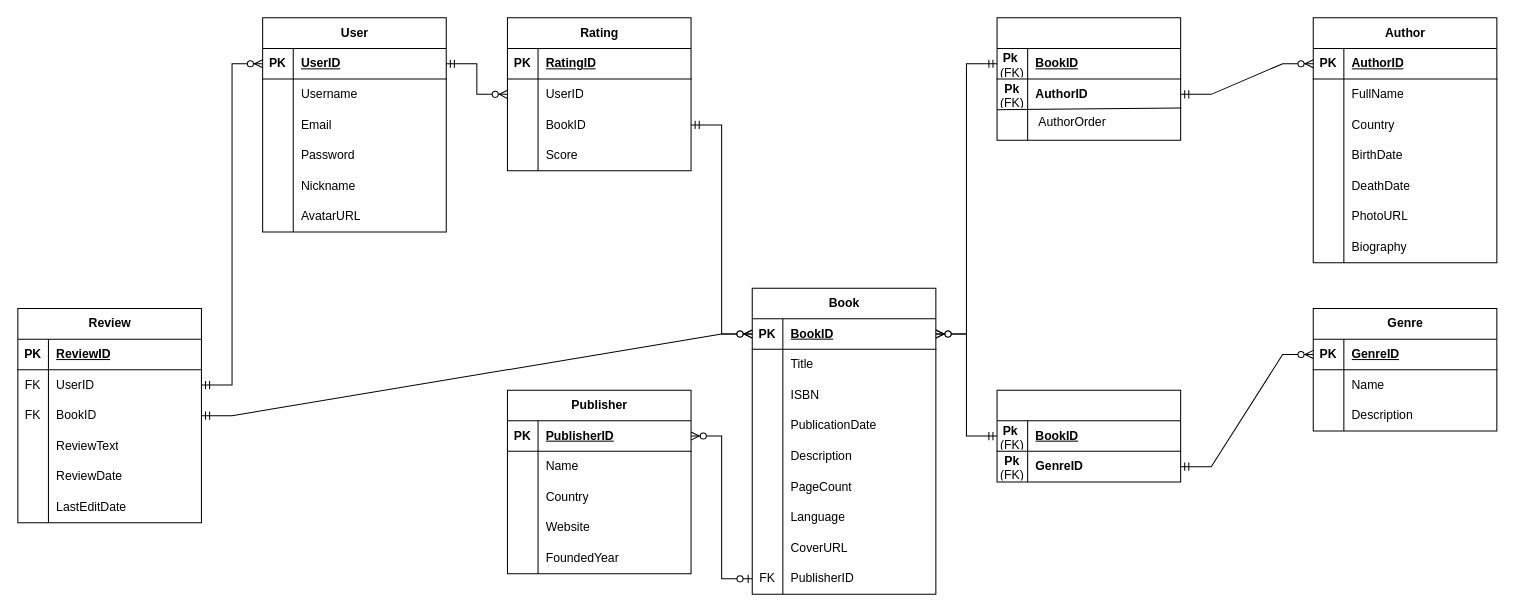
Image size: 1515x612. Some labels were removed from this diagram. Here are the shapes that lost their labels. From the top down, the box of each, then its label:
(996, 17, 1181, 140): BookAuthor
(996, 389, 1181, 482): BookGenre
